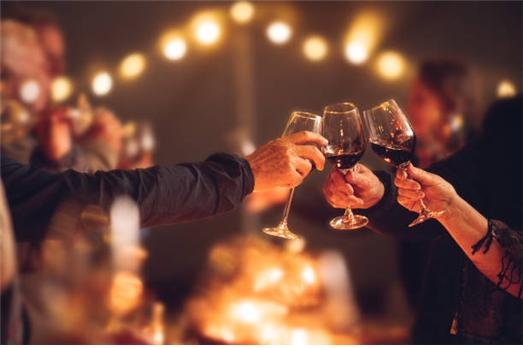alcohol: (369, 98, 448, 228), (264, 111, 320, 239), (324, 103, 367, 231)
